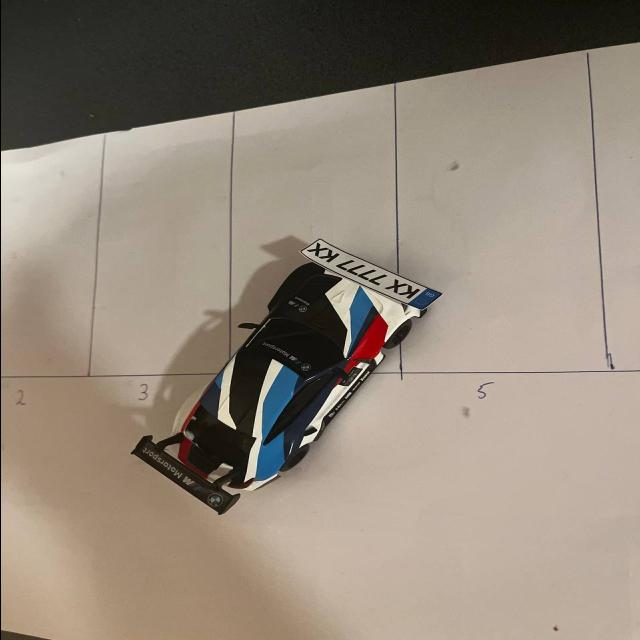cars: (100, 217, 462, 540)
